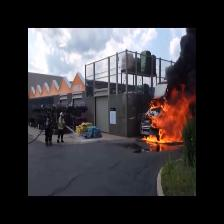fire: (150, 102, 186, 146)
smoke: (175, 46, 193, 82)
